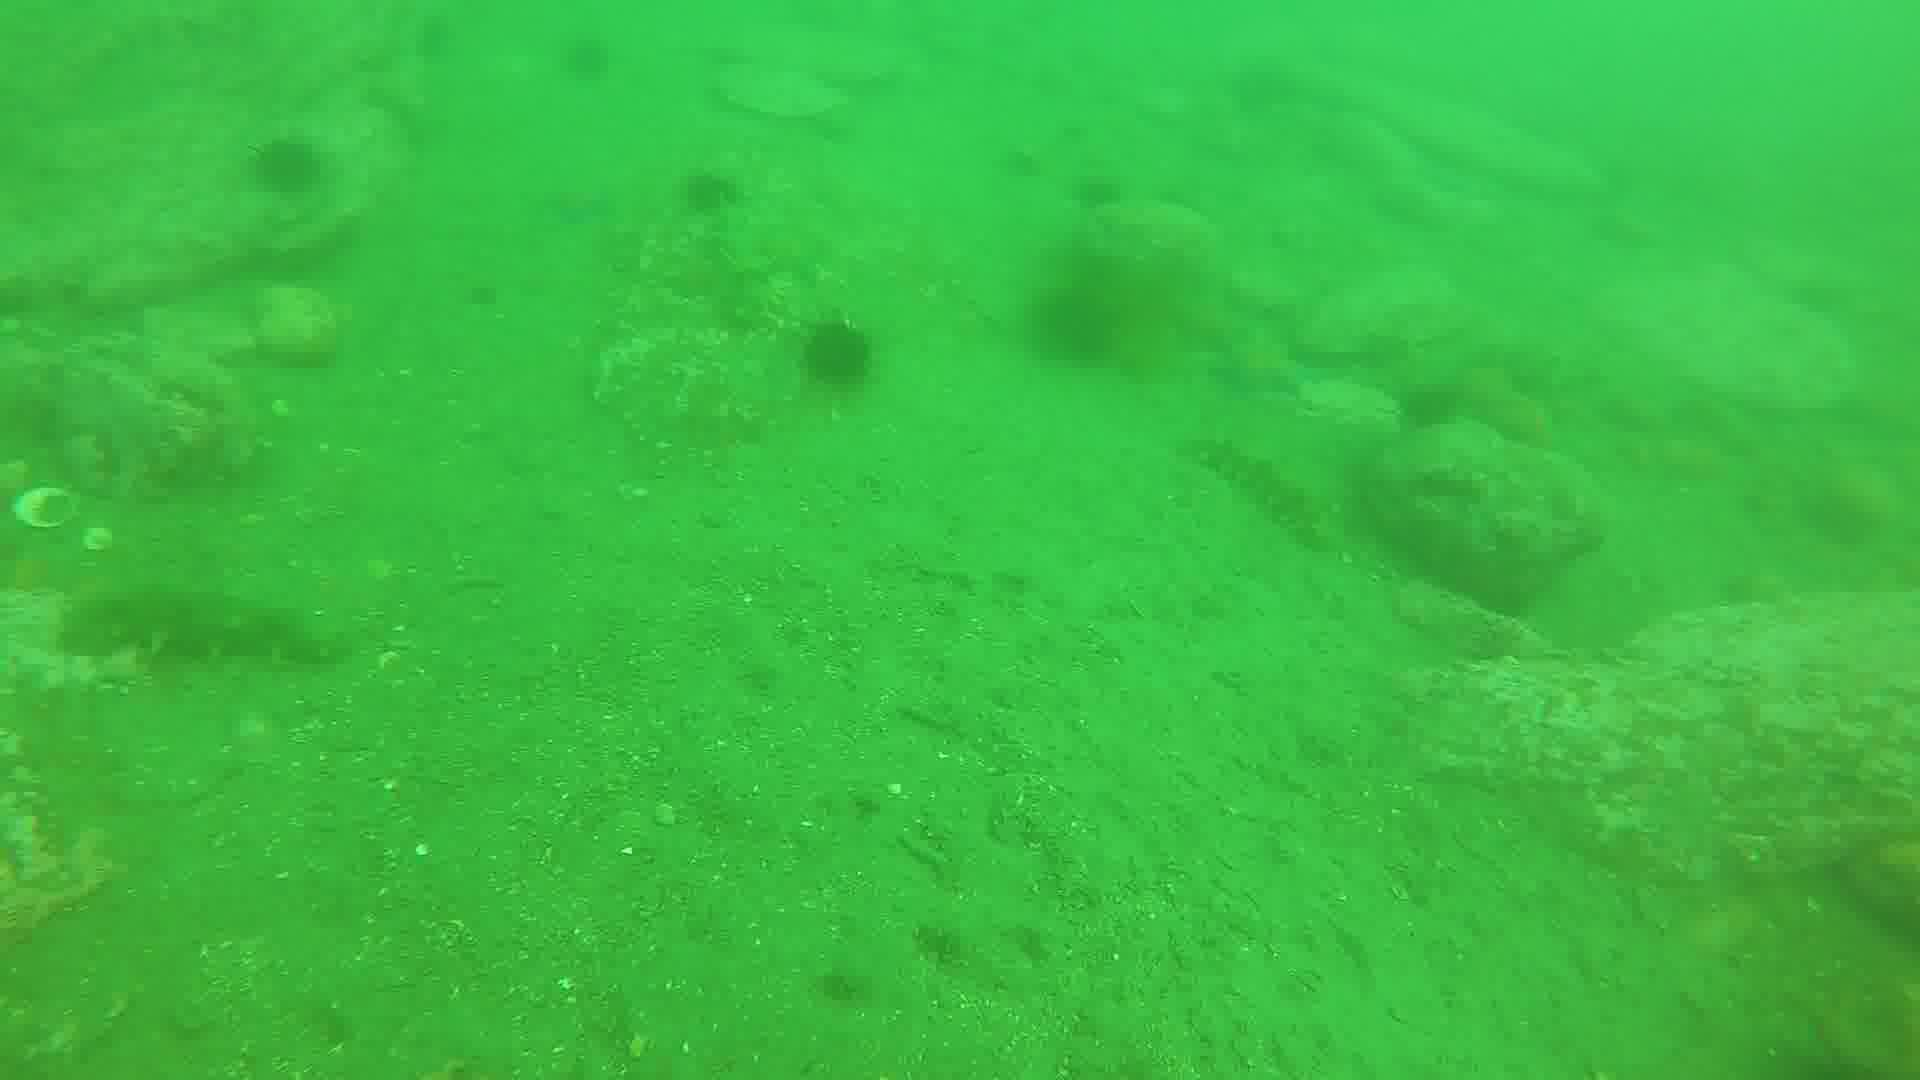echinus: (799, 316, 872, 392), (248, 138, 318, 200)
holothurian: (62, 582, 349, 663), (1182, 427, 1336, 549)
starfish: (1215, 342, 1305, 404), (539, 177, 618, 225)
